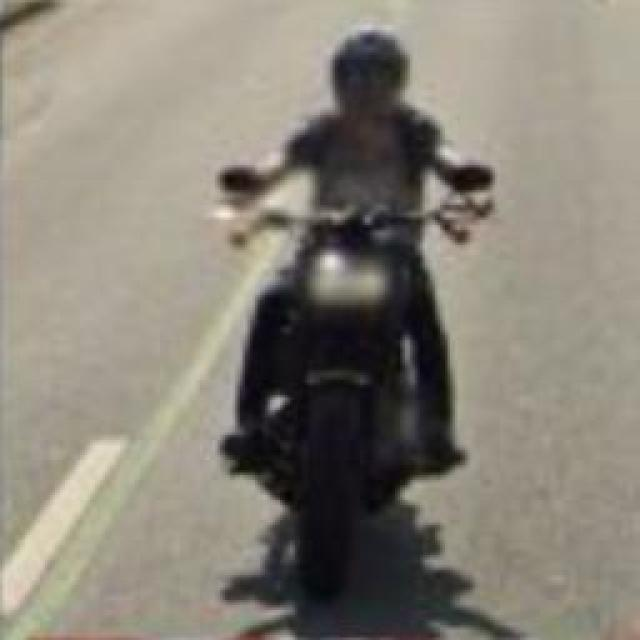Motor: (250, 202, 452, 600)
